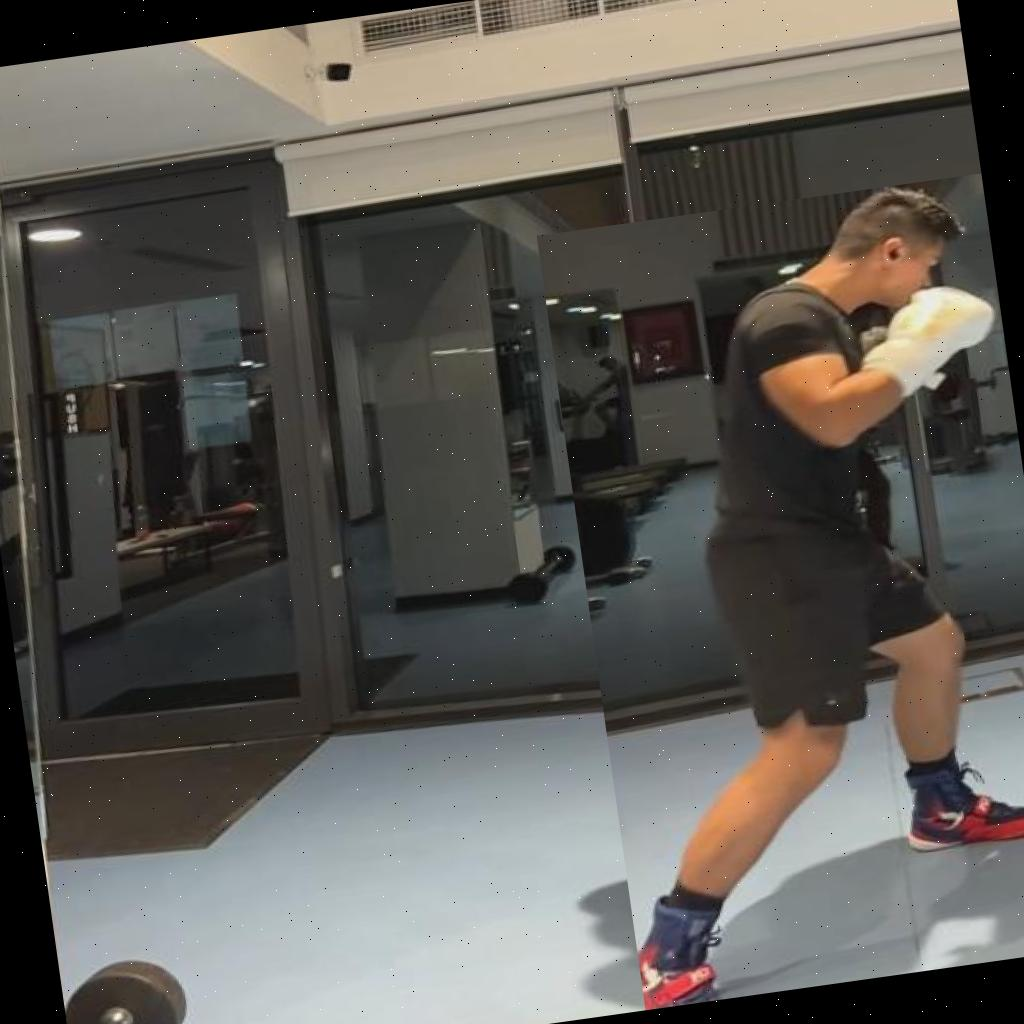no punch: (537, 173, 1024, 1010)
